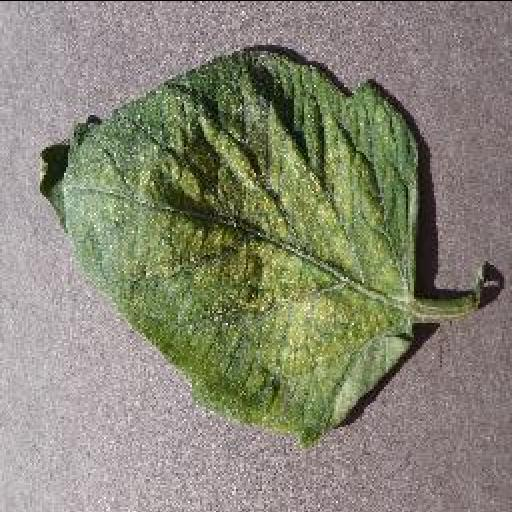disease_tomato: (36, 45, 424, 451)
